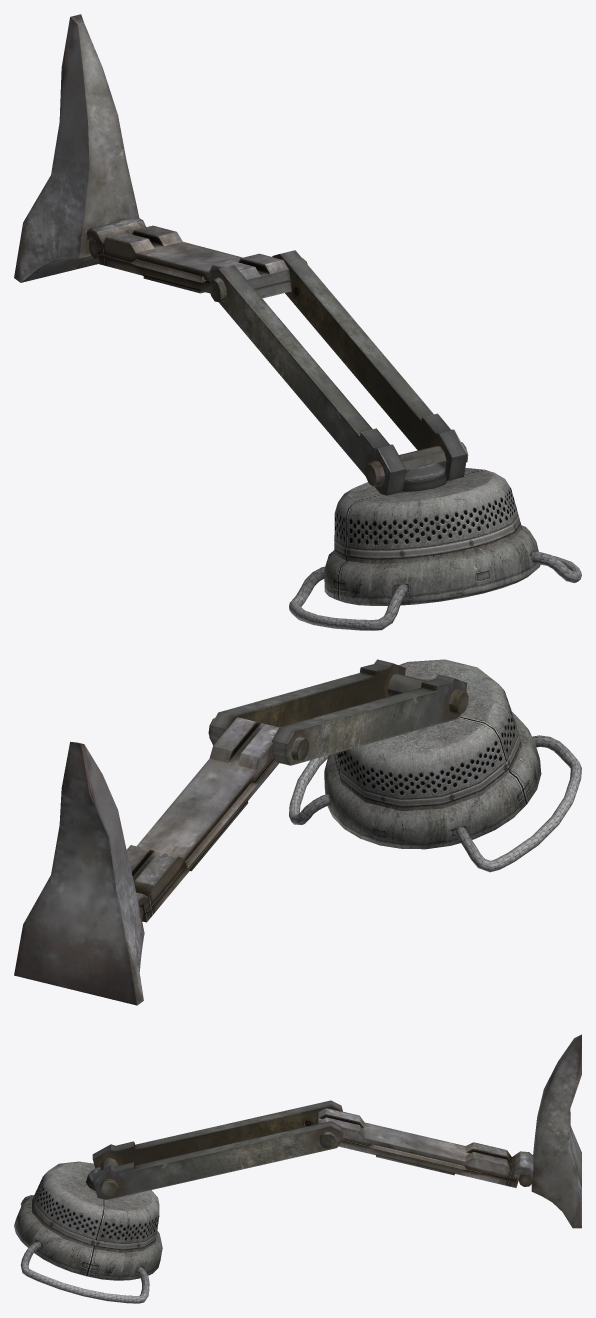
Rendered from spotlight_theta_infirmary.dae.
The picture shows the model from 3 angles, top to bottom: view 1: azimuth 30°, elevation 25°; view 2: azimuth 150°, elevation 25°; view 3: azimuth 270°, elevation 25°; orthographic projection. The views are drawn at different scales.
Parts seen in each view (by area): view 1: lamp, arm2, base, arm1; view 2: lamp, base, arm2, arm1; view 3: lamp, arm2, arm1, base.
Part boxes in pixels (x1,y1,x2,y2): lamp: (289,462,581,630); arm2: (209,250,468,495); base: (14,14,139,282); arm1: (87,217,291,298); lamp: (289,659,581,872); base: (14,741,144,1005); arm2: (208,659,468,765); arm1: (126,717,279,922); lamp: (14,1161,162,1303); arm2: (92,1100,343,1199); arm1: (314,1108,533,1187); base: (531,1034,581,1228).
Bounding box in the file's own units: 0.8347 × 1.08 × 2.38.
